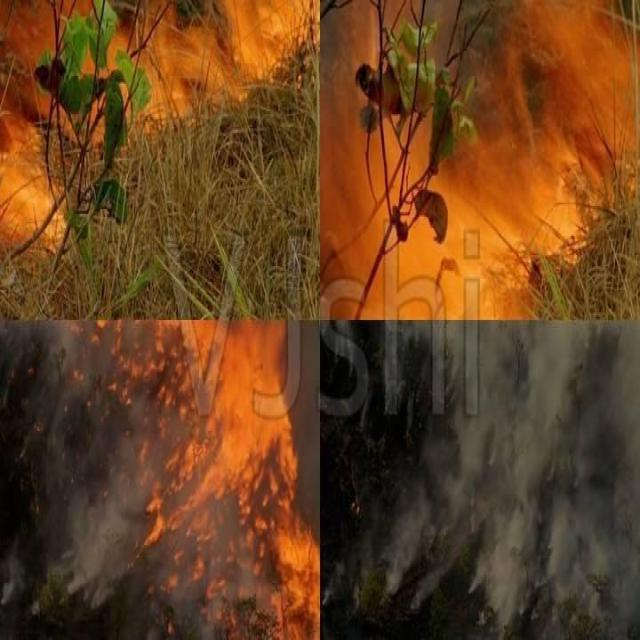fire: (338, 45, 630, 296), (124, 309, 312, 612), (9, 4, 313, 156), (0, 111, 68, 258)
smoke: (404, 349, 631, 617)
